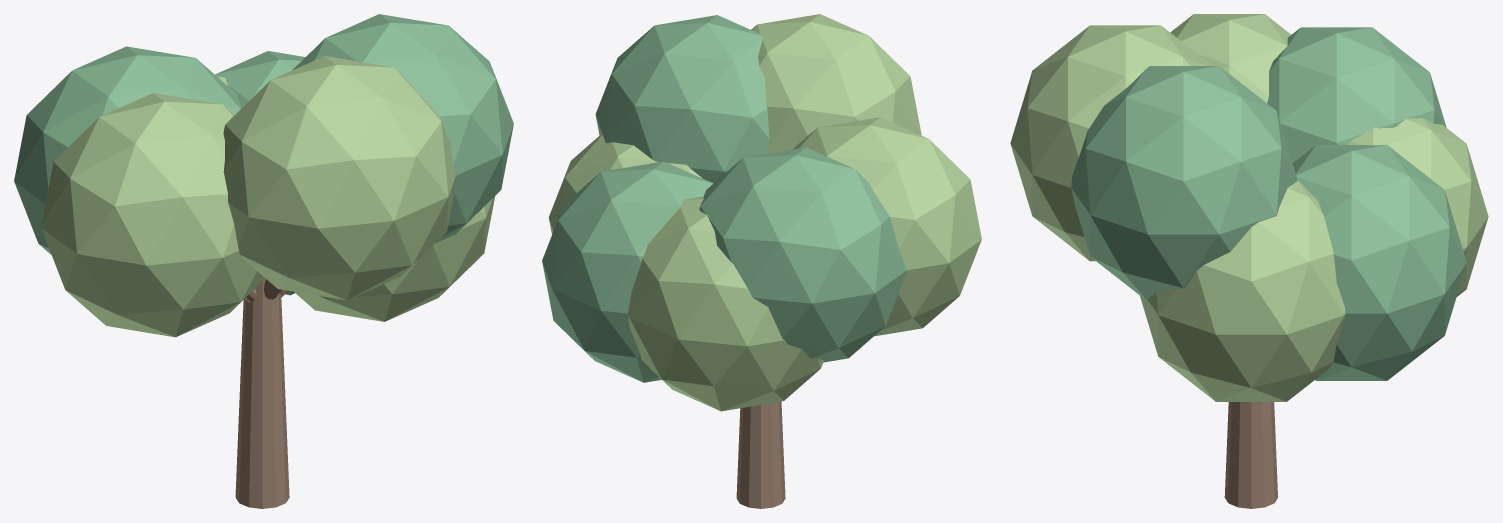
Rendered from oak.glb.
3 views of the same model, side by side, from view 1: azimuth 30°, elevation 25°; view 2: azimuth 150°, elevation 25°; view 3: azimuth 270°, elevation 25° (orthographic). The views are drawn at different scales.
Visible parts, largest first — view 1: oak_006, oak_010, oak_012, oak_004, oak_000, oak_002, oak_008; view 2: oak_004, oak_014, oak_012, oak_008, oak_010, oak_006, oak_000, oak_002; view 3: oak_012, oak_002, oak_008, oak_006, oak_004, oak_014, oak_010, oak_000.
Part boxes in pixels (box(x1,y1,x2,y2)): oak_006: box(223, 56, 455, 300); oak_010: box(41, 93, 265, 337); oak_012: box(292, 14, 513, 243); oak_004: box(14, 46, 241, 254); oak_000: box(235, 278, 289, 508); oak_002: box(294, 196, 494, 321); oak_008: box(215, 51, 305, 295); oak_004: box(699, 147, 906, 362); oak_014: box(628, 196, 823, 411); oak_012: box(595, 15, 769, 183); oak_008: box(542, 161, 713, 382); oak_010: box(792, 117, 981, 336); oak_006: box(751, 14, 921, 153); oak_000: box(736, 401, 785, 508); oak_002: box(548, 134, 702, 234); oak_012: box(1071, 66, 1297, 300); oak_002: box(1140, 180, 1345, 401); oak_008: box(1292, 145, 1466, 380); oak_006: box(1010, 25, 1212, 261); oak_004: box(1267, 27, 1446, 162); oak_014: box(1347, 118, 1488, 296); oak_010: box(1170, 14, 1291, 102); oak_000: box(1224, 402, 1277, 508).
Size of the model in its own units: 3.5 by 3.7 by 3.41.
